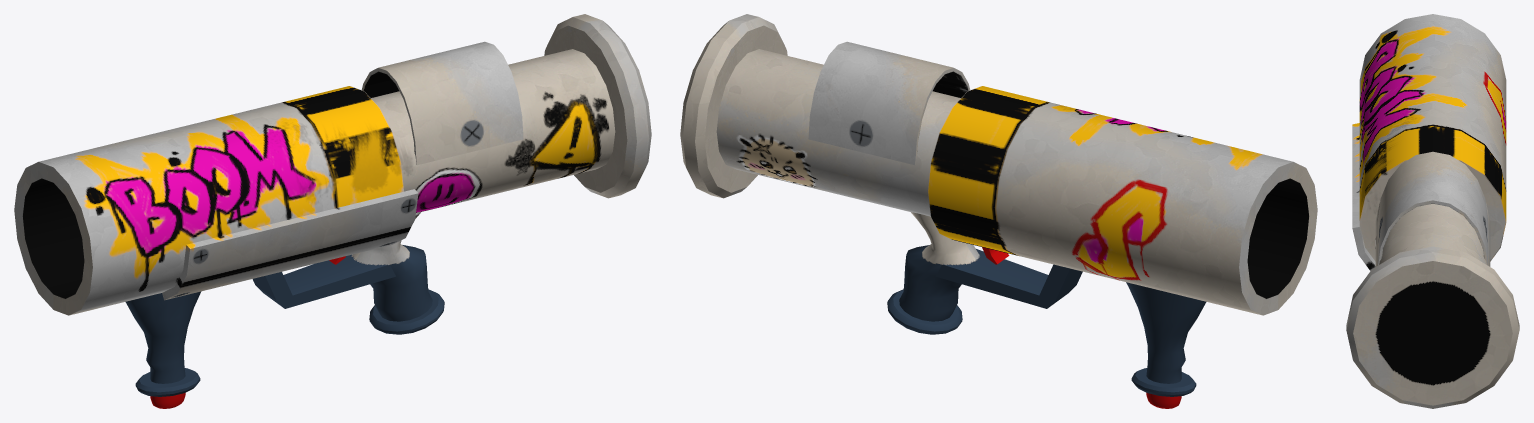
Rendered from ROCKET LAUNCHER A (fbx).fbx.
The picture shows the model from 3 angles, left to right: view 1: azimuth 30°, elevation 25°; view 2: azimuth 150°, elevation 25°; view 3: azimuth 270°, elevation 25°; orthographic projection. The views are drawn at different scales.
Parts seen in each view (by area): view 1: pCube2; view 2: pCube2; view 3: pCube2.
Boxes of the visible parts, box(x1,y1,x2,y2) form: pCube2: box(14, 14, 651, 408); pCube2: box(680, 14, 1317, 408); pCube2: box(1346, 14, 1519, 408).
Bounding box in the file's own units: 15.44 × 7.45 × 4.47.
1 material, 1 textured.
